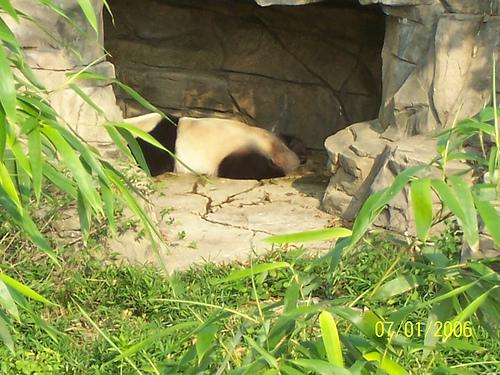panda: (124, 113, 300, 179)
